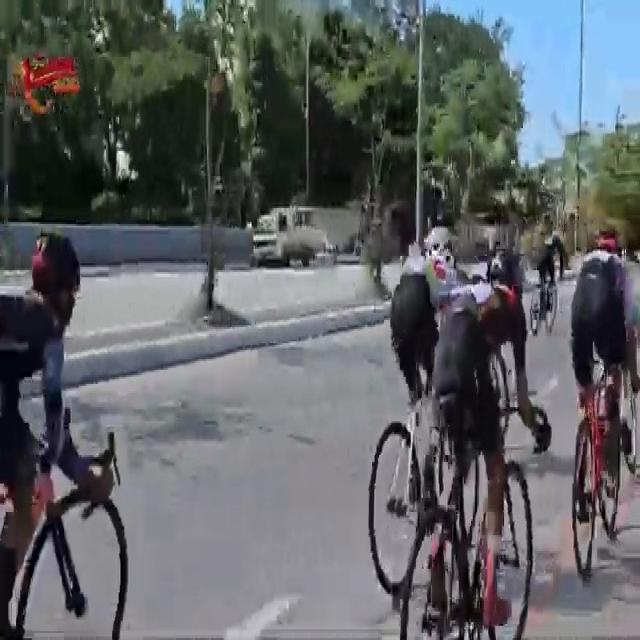bike: (0, 226, 129, 640), (402, 248, 533, 640), (363, 226, 485, 594), (568, 222, 624, 588), (615, 234, 640, 494), (530, 212, 566, 330)
car: (251, 200, 319, 272)
